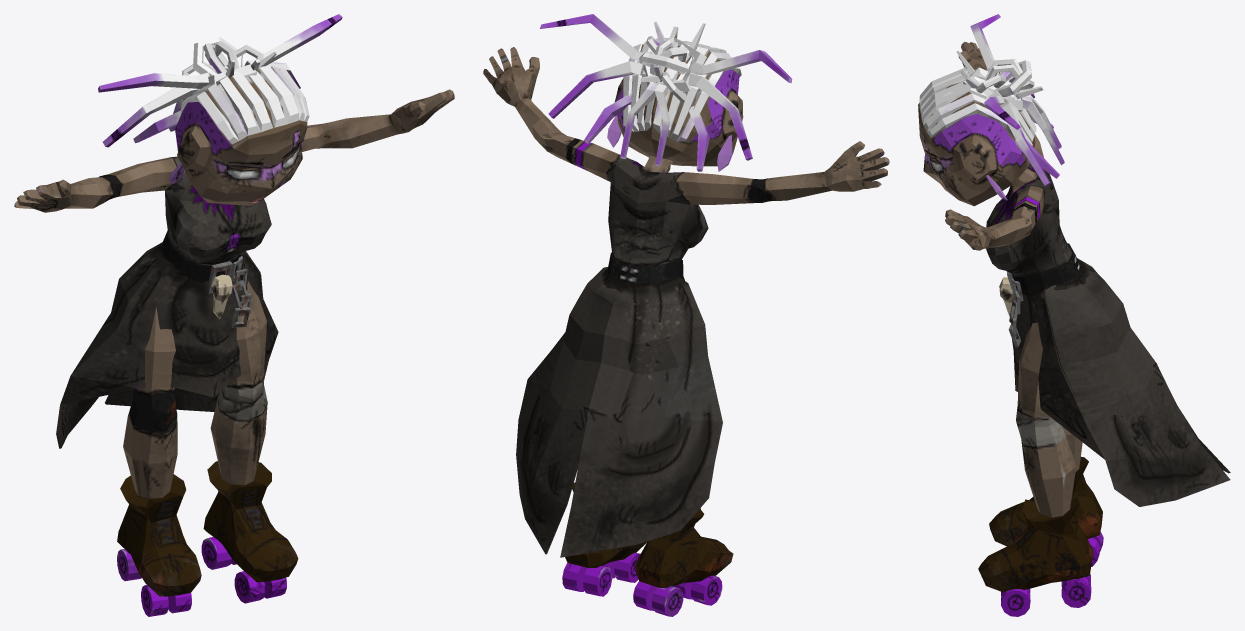
File: bruja_000117.obj
3 views of the same model, side by side, from view 1: azimuth 30°, elevation 25°; view 2: azimuth 150°, elevation 25°; view 3: azimuth 270°, elevation 25° (orthographic). The views are drawn at different scales.
Visible parts, largest first — view 1: Bruja_Plane.001; view 2: Bruja_Plane.001; view 3: Bruja_Plane.001.
Part boxes in pixels (x1=…): Bruja_Plane.001: x1=14, y1=14, x2=454, y2=616; Bruja_Plane.001: x1=483, y1=14, x2=889, y2=616; Bruja_Plane.001: x1=918, y1=14, x2=1230, y2=616.
Bounding box in the file's own units: 12.59 × 16.15 × 8.62.
